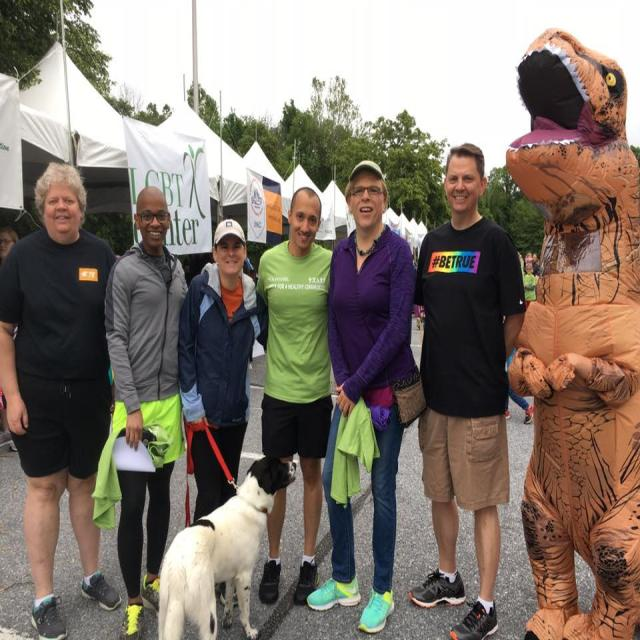body: (504, 9, 640, 640), (404, 138, 530, 639), (0, 158, 129, 639), (303, 154, 430, 636), (170, 245, 509, 423), (88, 181, 195, 639), (176, 215, 273, 611), (254, 187, 335, 608), (0, 217, 36, 462)
